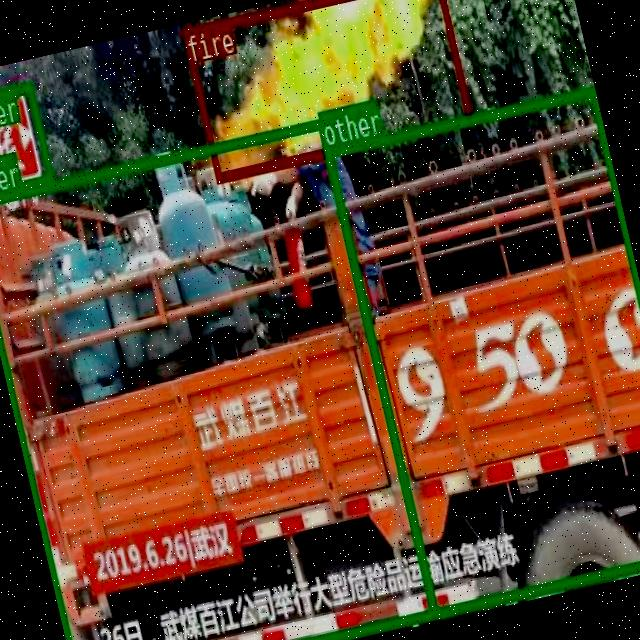fire: (180, 0, 471, 180)
